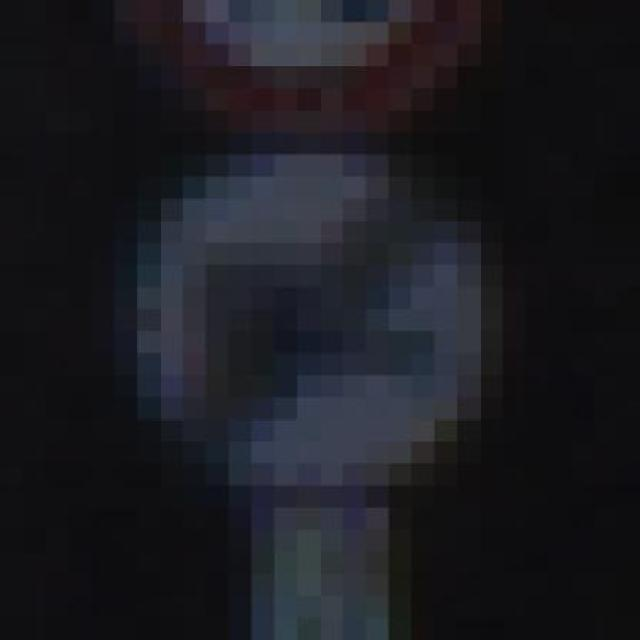Overtaking by trucks is prohibited: (114, 110, 526, 508)
